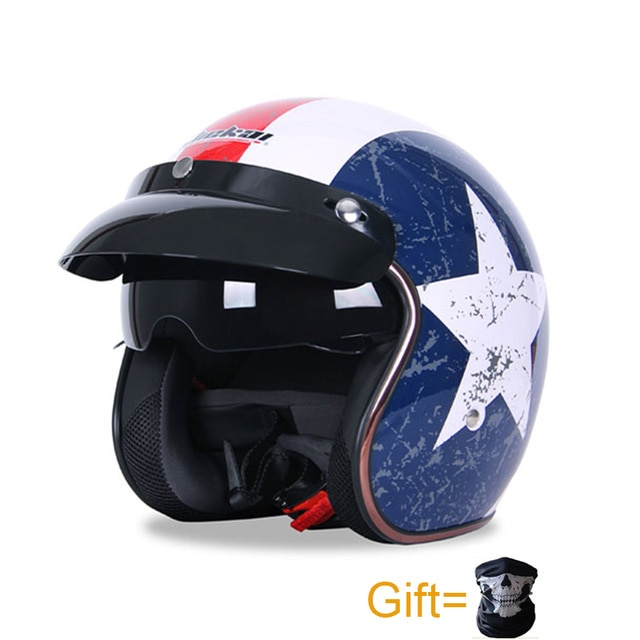with_helmet: (77, 94, 549, 545)
